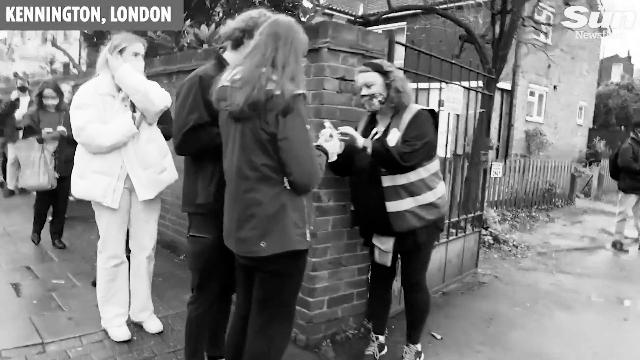berdiri: (182, 12, 326, 360), (338, 46, 456, 360), (58, 33, 172, 348)
